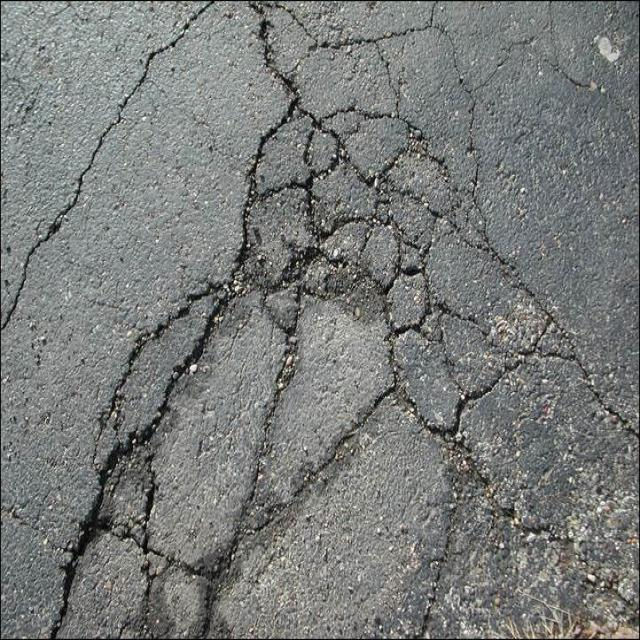Drain Hole: (108, 65, 570, 625)
